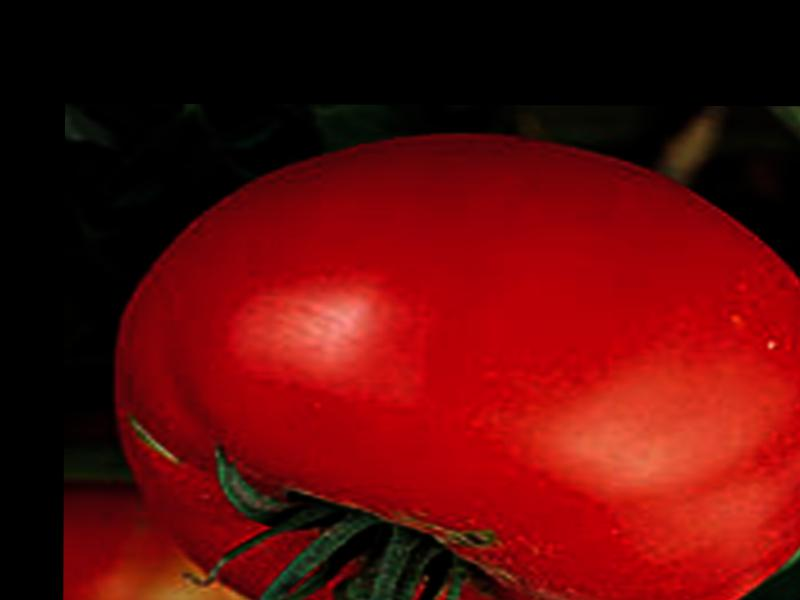Tomato: (118, 130, 800, 600)
